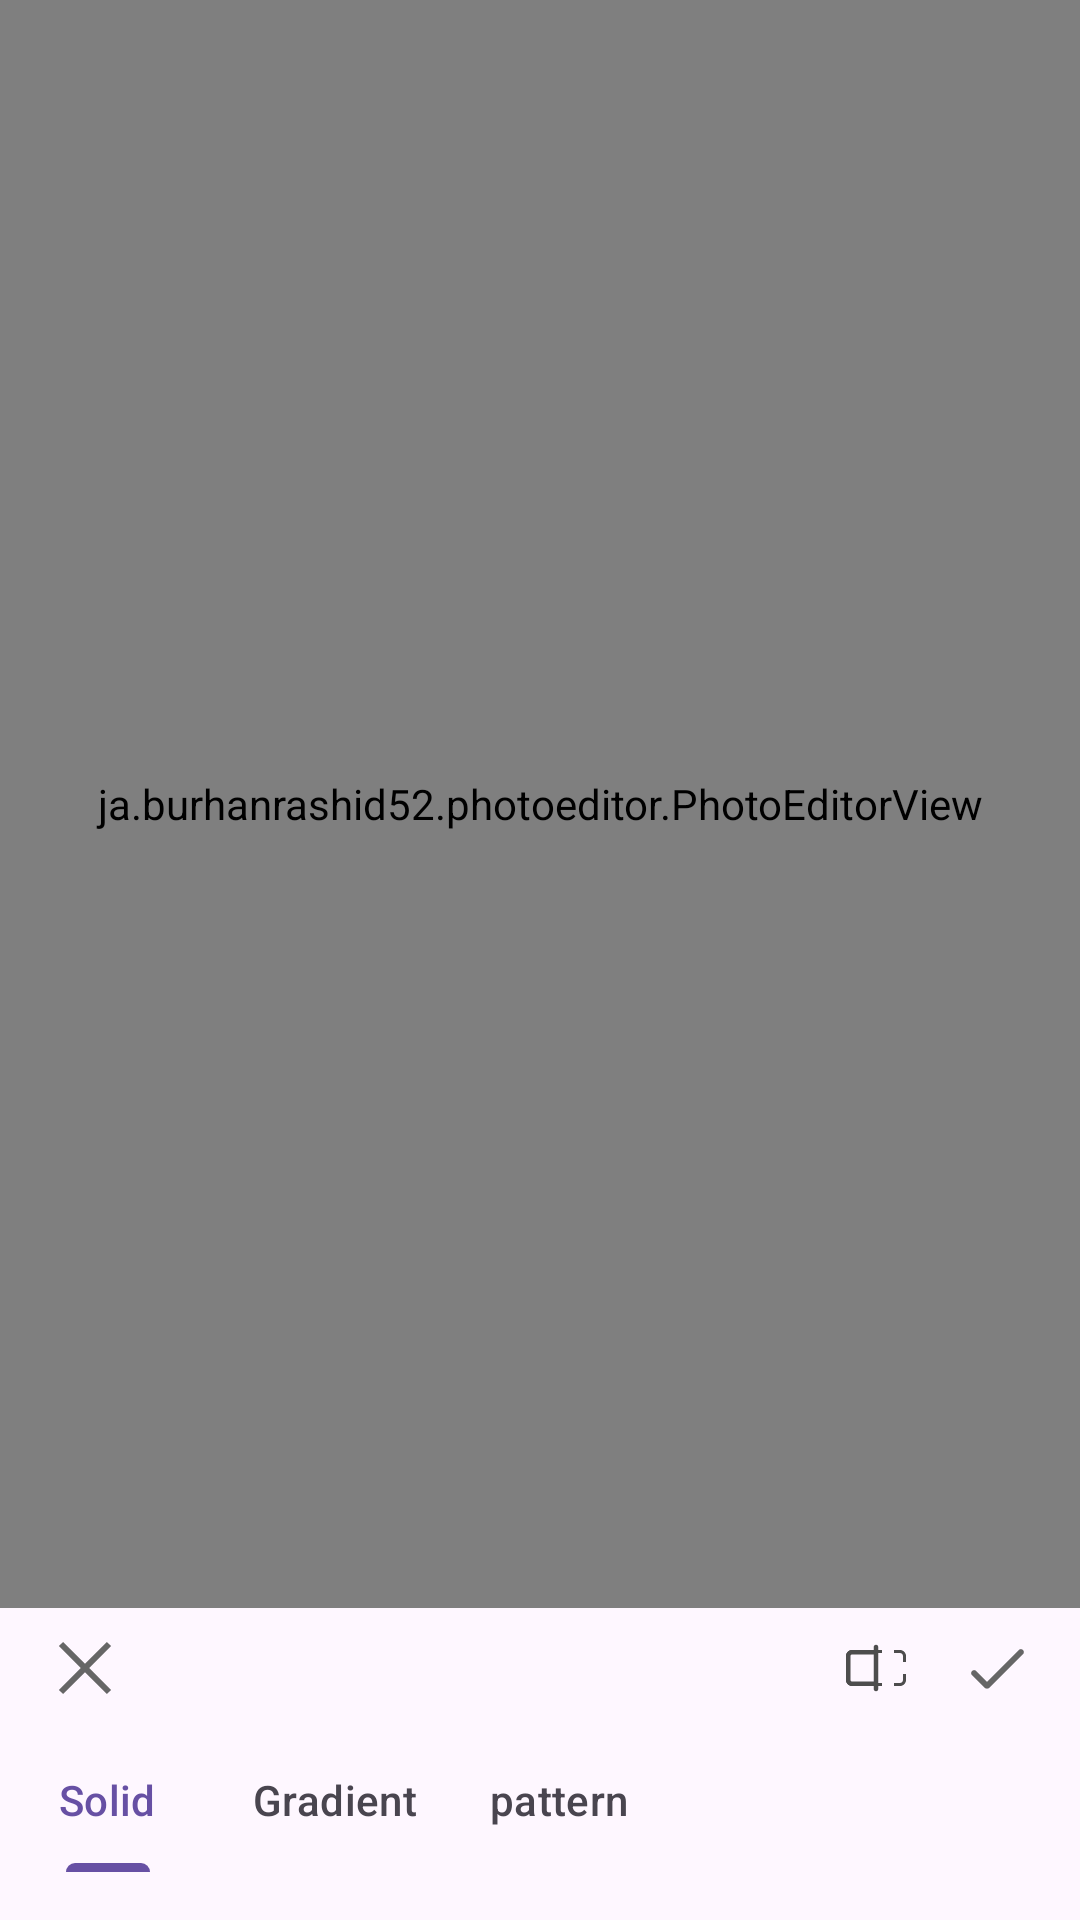

Locate icon controls on the screen. Image size 1080px x 1920px, boxes as (x1, y1, x2, y2).
close: (59, 1642, 111, 1694)
tick done: (971, 1649, 1024, 1689)
